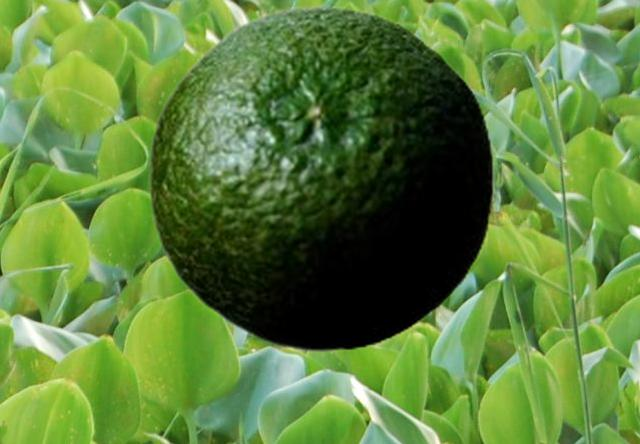calamansi: (147, 4, 493, 352)
